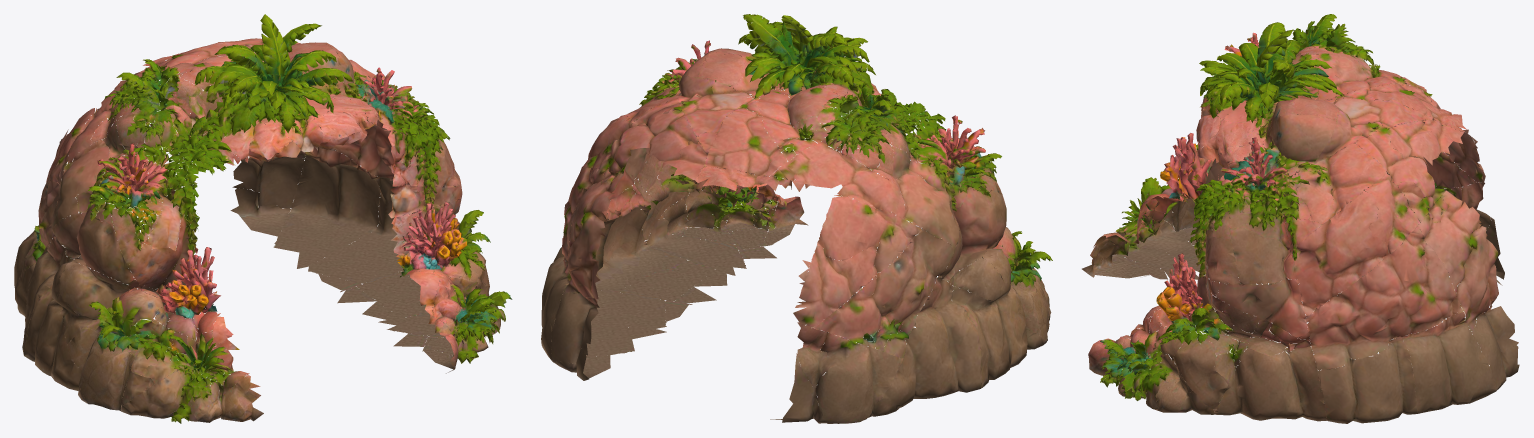
The model's file is open_arch.glb.
The picture shows the model from 3 angles, left to right: view 1: azimuth 30°, elevation 25°; view 2: azimuth 150°, elevation 25°; view 3: azimuth 270°, elevation 25°; orthographic projection.
Parts seen in each view (by area): view 1: open_arch; view 2: open_arch; view 3: open_arch.
Boxes of the visible parts, x1=… form: open_arch: x1=14, y1=14, x2=512, y2=423; open_arch: x1=541, y1=14, x2=1052, y2=423; open_arch: x1=1082, y1=14, x2=1519, y2=423.
Size of the model in its own units: 1.86 by 1.29 by 1.69.
1 material, 1 textured.
